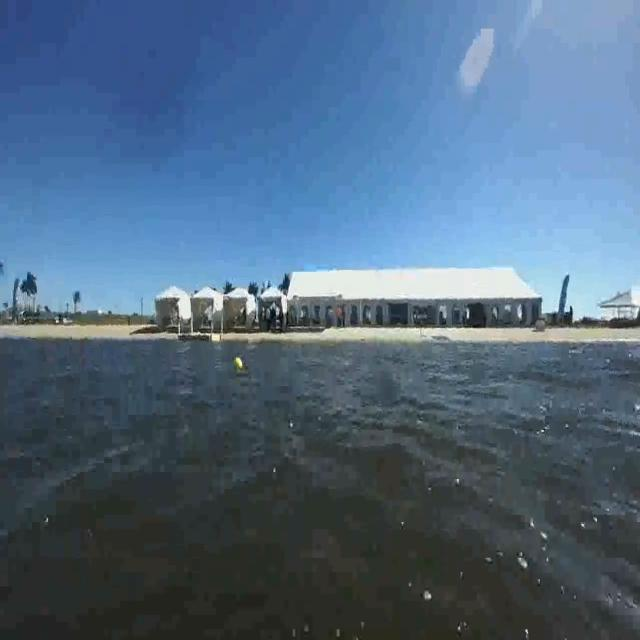yellow-buoy: (235, 355, 245, 370)
